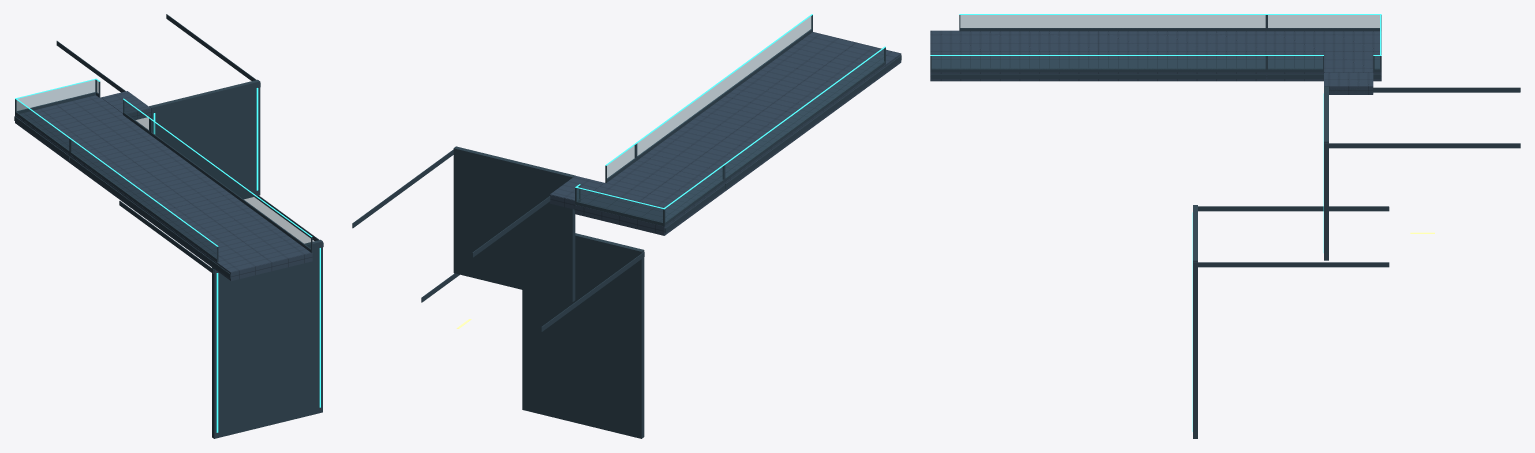
Rendered from service-tower-replacement-1.glb.
3 renders of one model, left to right at view 1: azimuth 30°, elevation 25°; view 2: azimuth 150°, elevation 25°; view 3: azimuth 270°, elevation 25°, orthographic. The views are drawn at different scales.
Visible parts, largest first — view 1: service-tower-replacement-1; view 2: service-tower-replacement-1; view 3: service-tower-replacement-1.
Part boxes in pixels (bbox=[...]): service-tower-replacement-1: bbox=[14, 14, 323, 438]; service-tower-replacement-1: bbox=[352, 14, 901, 438]; service-tower-replacement-1: bbox=[930, 14, 1520, 438].
Bounding box in the file's own units: 16.1 × 21.13 × 35.97.
Materials: 5 (1 with a texture image).
